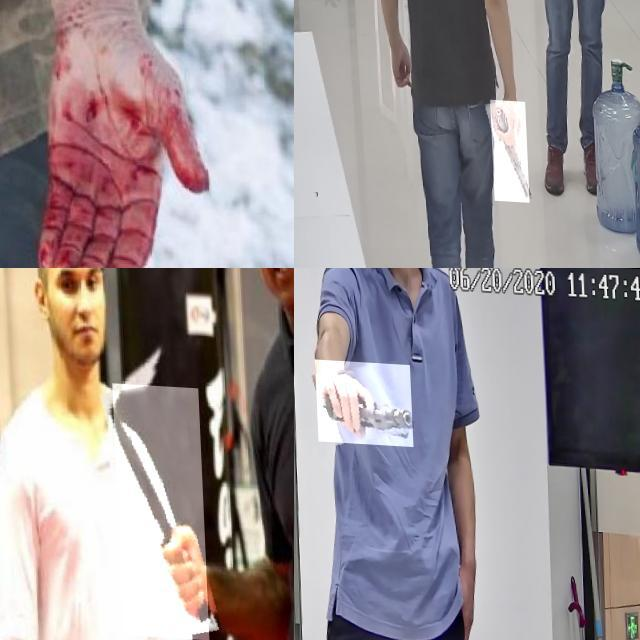-: (110, 381, 204, 636)
gun-knife-thesis - v11 Yolov5 augmented: (314, 356, 412, 442), (486, 96, 525, 199)
